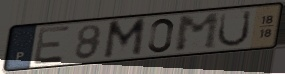0: (147, 17, 176, 55)
8: (73, 23, 104, 61)
E: (32, 24, 73, 66)
M: (101, 16, 149, 61), (174, 11, 222, 54)
U: (215, 8, 254, 49)
